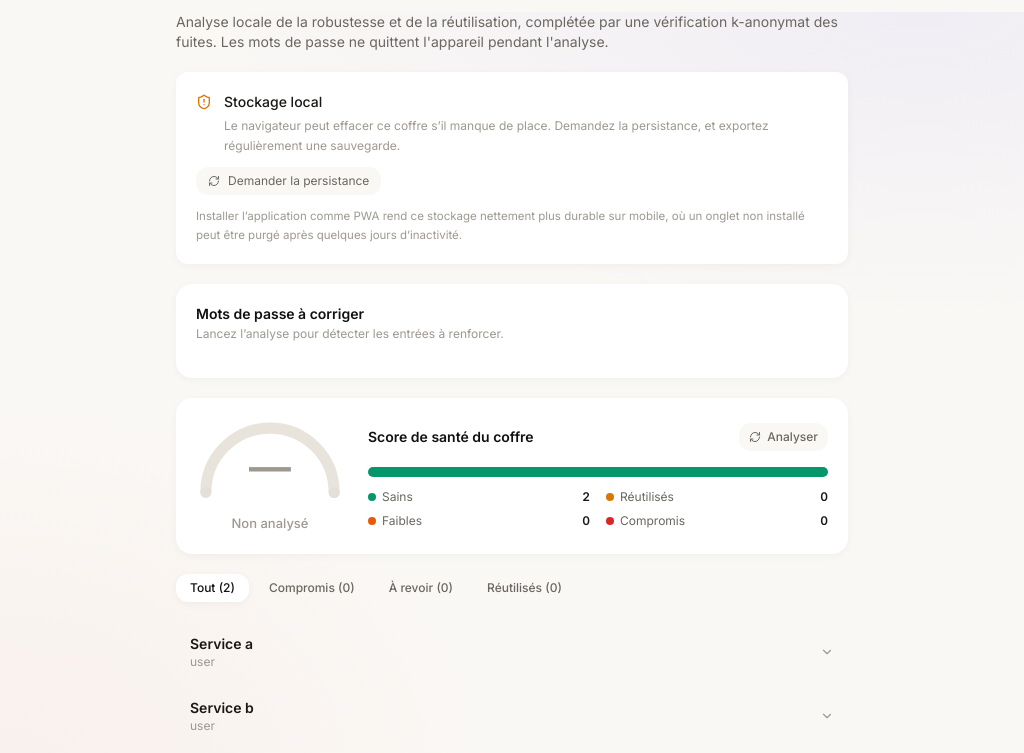
it: HealthTab › reports a strong password reused across accounts
Click the button "Analyser": (784, 437) [739,423,828,451]
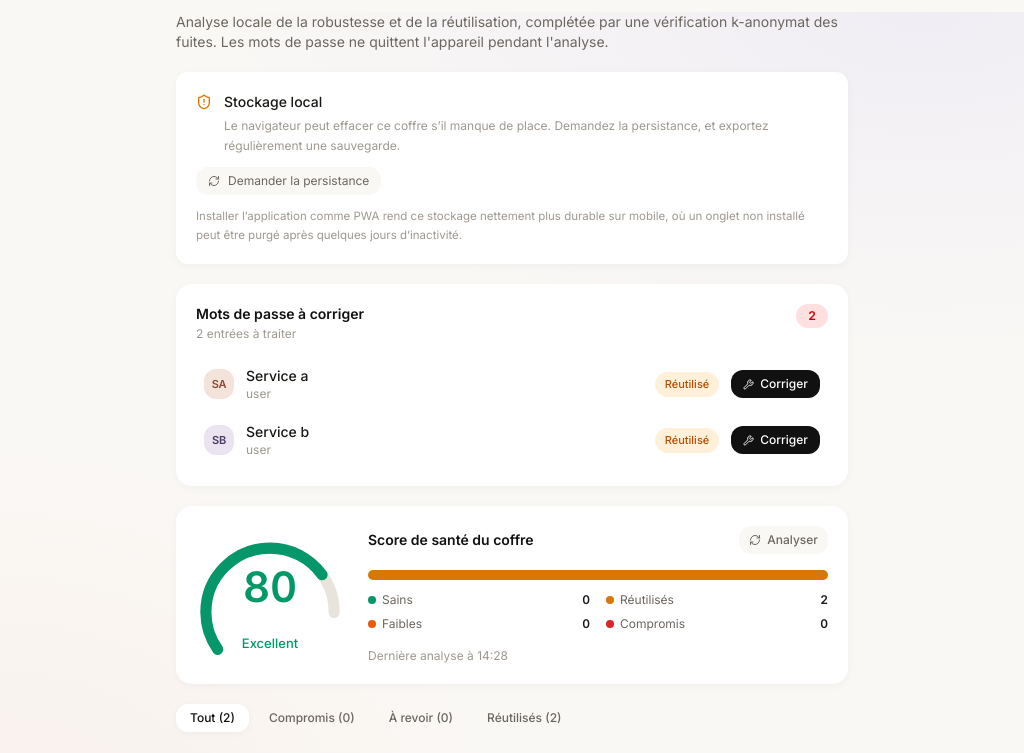
Check: the text "2 entrées à traiter" is shown, box [196,326,296,341]
Check: the text "Réutilisé" is shown 2 times, box [655,372,719,397]; [655,428,719,453]
